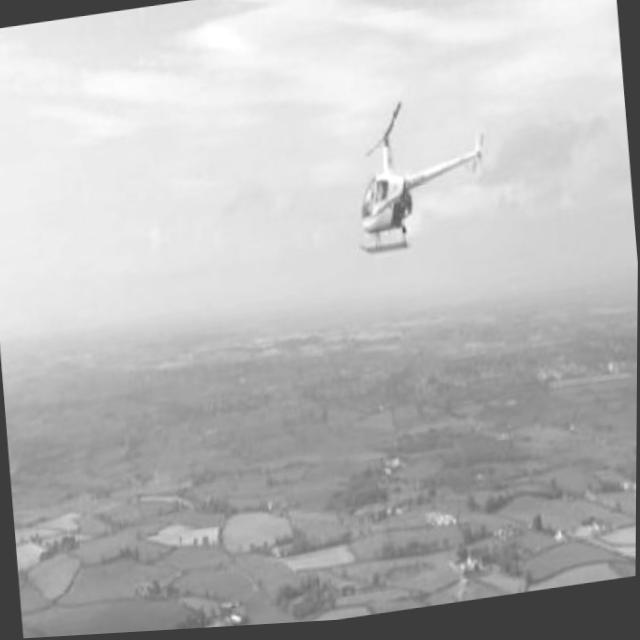helikopter: (339, 78, 505, 282)
